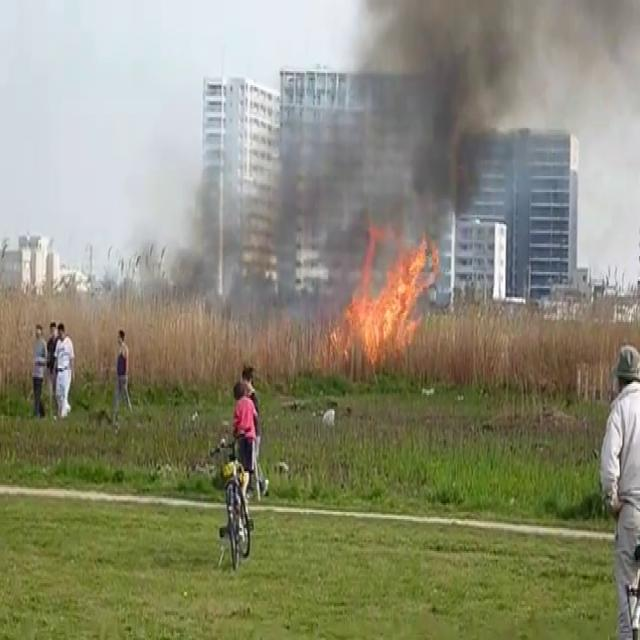Fire: (331, 235, 435, 364)
Smoke: (275, 0, 640, 300), (273, 0, 524, 300)
